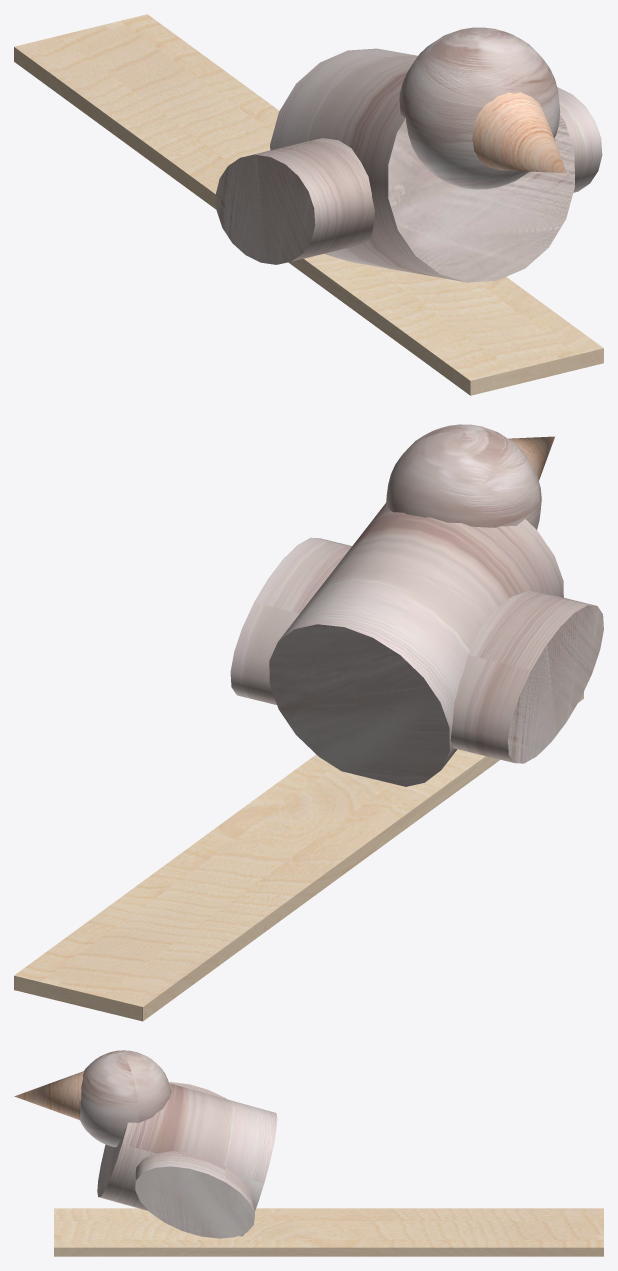
Rendered from Cuckoo2.obj.
3 renders of one model, top to bottom at view 1: azimuth 30°, elevation 25°; view 2: azimuth 150°, elevation 25°; view 3: azimuth 270°, elevation 25°, orthographic. The views are drawn at different scales.
Visible parts, largest first — view 1: Cuckoo2; view 2: Cuckoo2; view 3: Cuckoo2.
Part boxes in pixels (x1,y1,x2,y2): Cuckoo2: (14, 14, 603, 395); Cuckoo2: (14, 424, 603, 1021); Cuckoo2: (14, 1050, 603, 1256).
Size of the model in its own units: 0.8673 by 0.8727 by 2.56.
